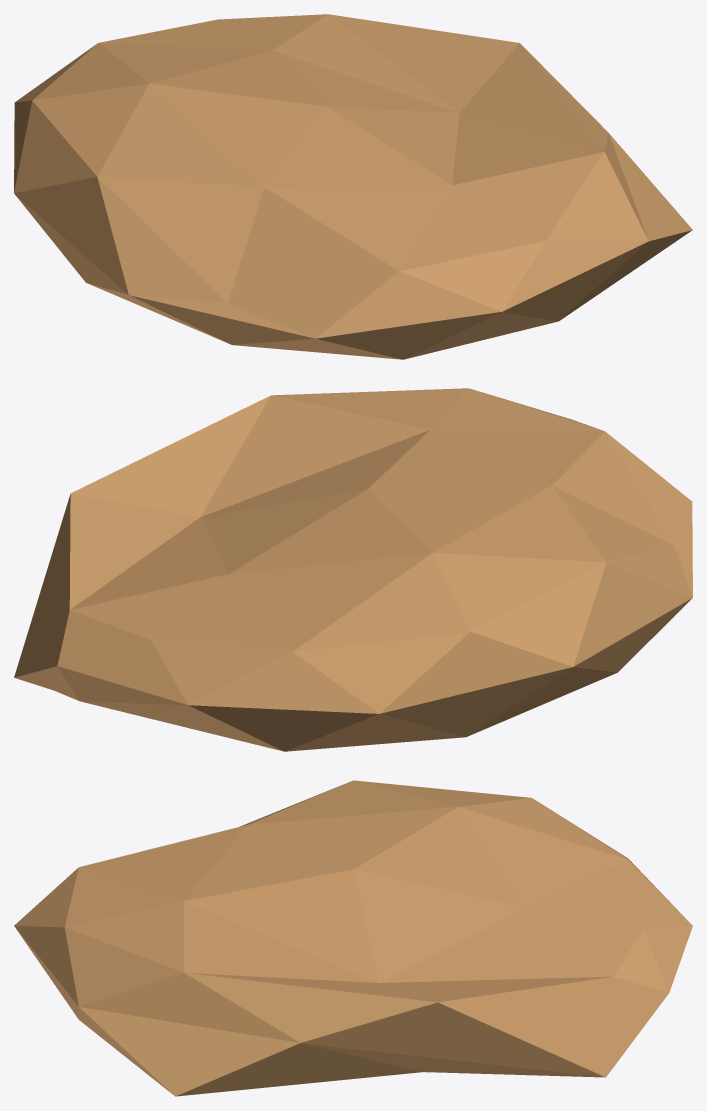
The model's file is Rock Orange 001.fbx.
The picture shows the model from 3 angles, top to bottom: view 1: azimuth 30°, elevation 25°; view 2: azimuth 150°, elevation 25°; view 3: azimuth 270°, elevation 25°; orthographic projection. The views are drawn at different scales.
Visible parts, largest first — view 1: Rock 001.006; view 2: Rock 001.006; view 3: Rock 001.006.
Boxes of the visible parts, x1=… form: Rock 001.006: x1=14, y1=14, x2=692, y2=359; Rock 001.006: x1=14, y1=388, x2=692, y2=751; Rock 001.006: x1=14, y1=780, x2=692, y2=1096.
Bounding box in the file's own units: 374 × 101 × 460.
